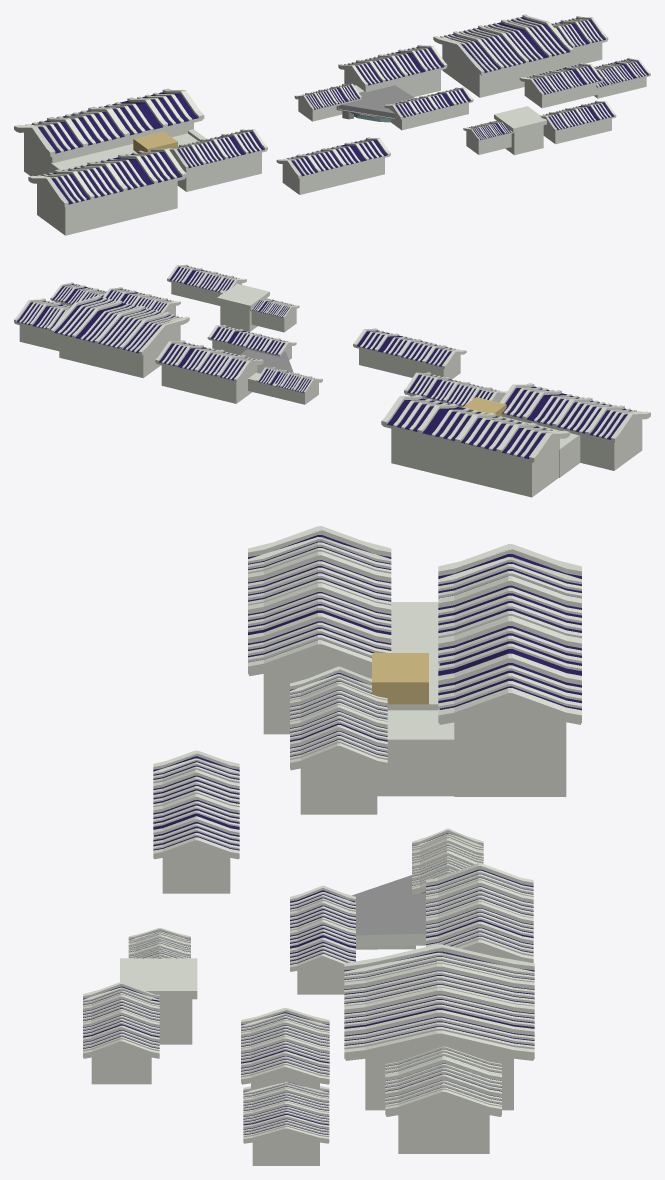
The model's file is museum.fbx.
3 renders of one model, top to bottom at view 1: azimuth 30°, elevation 25°; view 2: azimuth 150°, elevation 25°; view 3: azimuth 270°, elevation 25°, orthographic. The views are drawn at different scales.
Visible parts, largest first — view 1: Cube.013, Cube.005, Cube.019, Cube.016, Cube.006, Cube.010; view 2: Cube.013, Cube.005, Cube.019, Cube.016, Cube.006, Cube.010; view 3: Cube.013, Cube.005, Cube.019, Cube.016, Cube.010, Cube.006.
Part boxes in pixels (x1,y1,x2,y2): Cube.013: (14, 88, 267, 235); Cube.005: (433, 14, 608, 97); Cube.019: (294, 44, 473, 130); Cube.016: (463, 100, 616, 155); Cube.006: (276, 137, 390, 194); Cube.010: (519, 57, 650, 108); Cube.013: (381, 372, 650, 497); Cube.005: (14, 295, 189, 378); Cube.019: (155, 325, 322, 404); Cube.016: (167, 264, 299, 332); Cube.006: (353, 328, 466, 379); Cube.010: (50, 282, 180, 315); Cube.013: (248, 526, 581, 814); Cube.005: (344, 944, 534, 1153); Cube.019: (290, 828, 533, 994); Cube.016: (83, 928, 197, 1084); Cube.010: (241, 1008, 329, 1165); Cube.006: (153, 750, 239, 893).
Bounding box in the file's own units: 12236 × 1105 × 4554.
